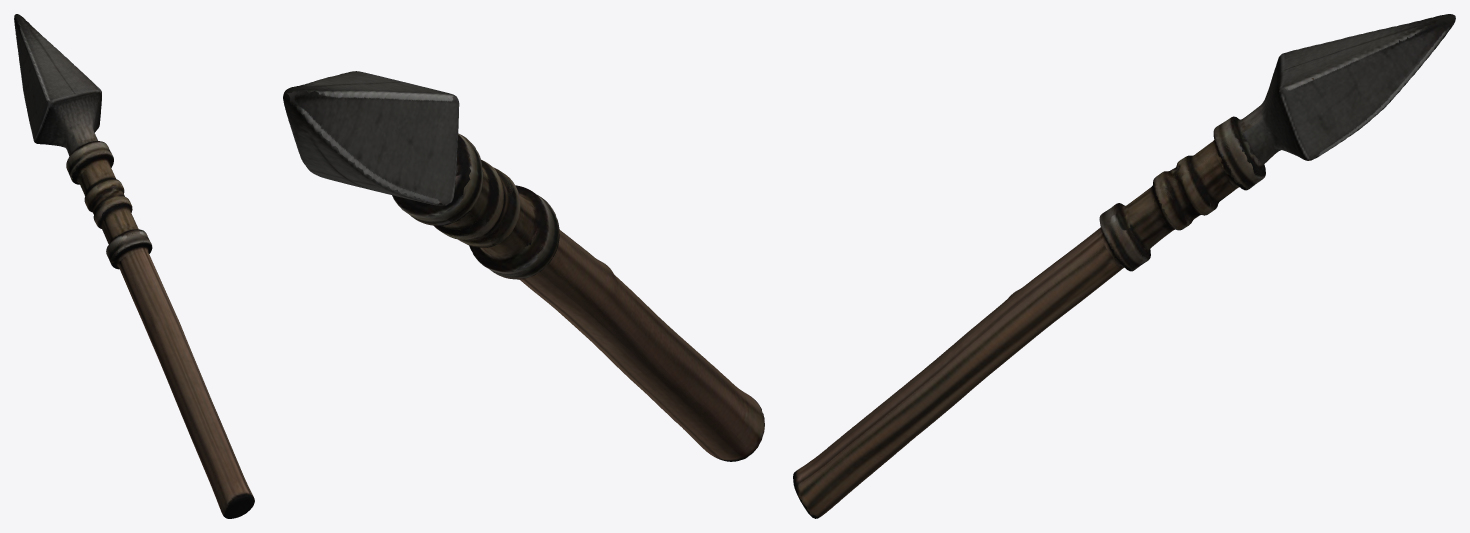
Rendered from source-0.glb.
The picture shows the model from 3 angles, left to right: view 1: azimuth 30°, elevation 25°; view 2: azimuth 150°, elevation 25°; view 3: azimuth 270°, elevation 25°; orthographic projection. The views are drawn at different scales.
Visible parts, largest first — view 1: tmperhlfvt9.ply; view 2: tmperhlfvt9.ply; view 3: tmperhlfvt9.ply.
Boxes of the visible parts, x1,y1,x2,y2 form: tmperhlfvt9.ply: (14,14,254,518); tmperhlfvt9.ply: (283,71,764,461); tmperhlfvt9.ply: (793,14,1455,518).
Bounding box in the file's own units: 0.3191 × 1.63 × 1.95.
Materials: 1 (1 with a texture image).
